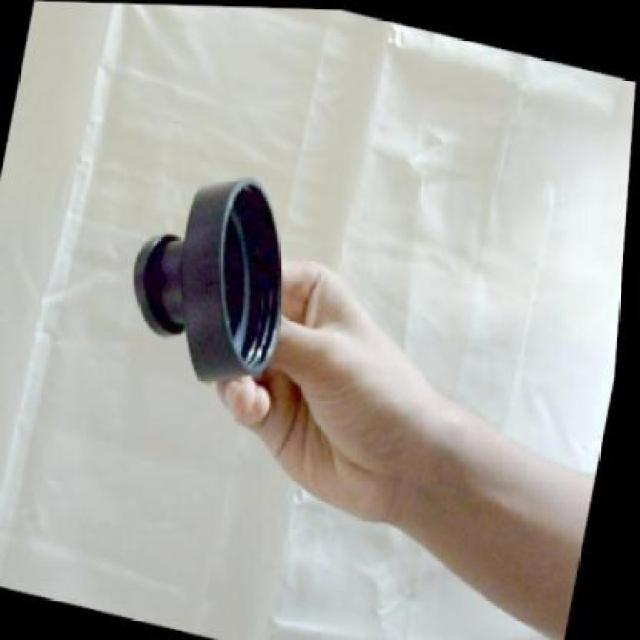Plastic: (133, 173, 282, 384)
